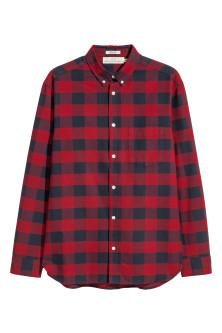teeshirt: (10, 43, 219, 295)
